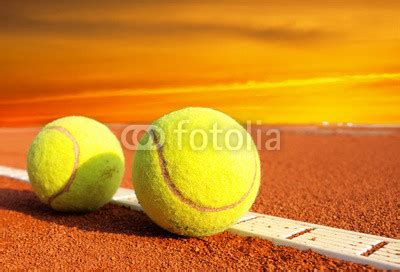tennis_ball: (131, 106, 261, 235), (26, 115, 125, 211)
